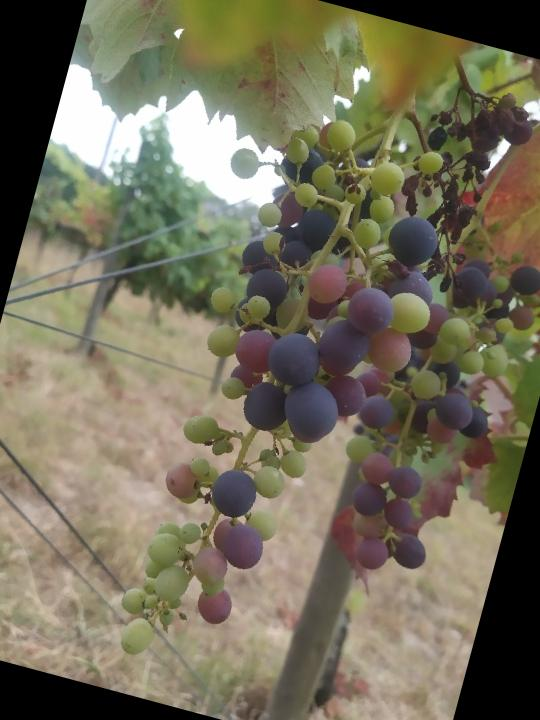grape: (99, 72, 479, 711), (316, 232, 540, 600), (378, 75, 540, 311)
